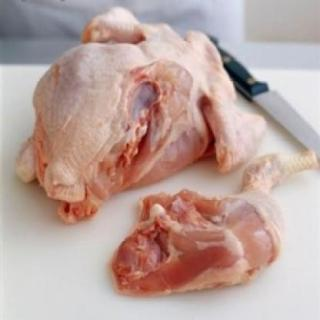Ayam: (18, 9, 263, 222), (112, 152, 318, 295)
